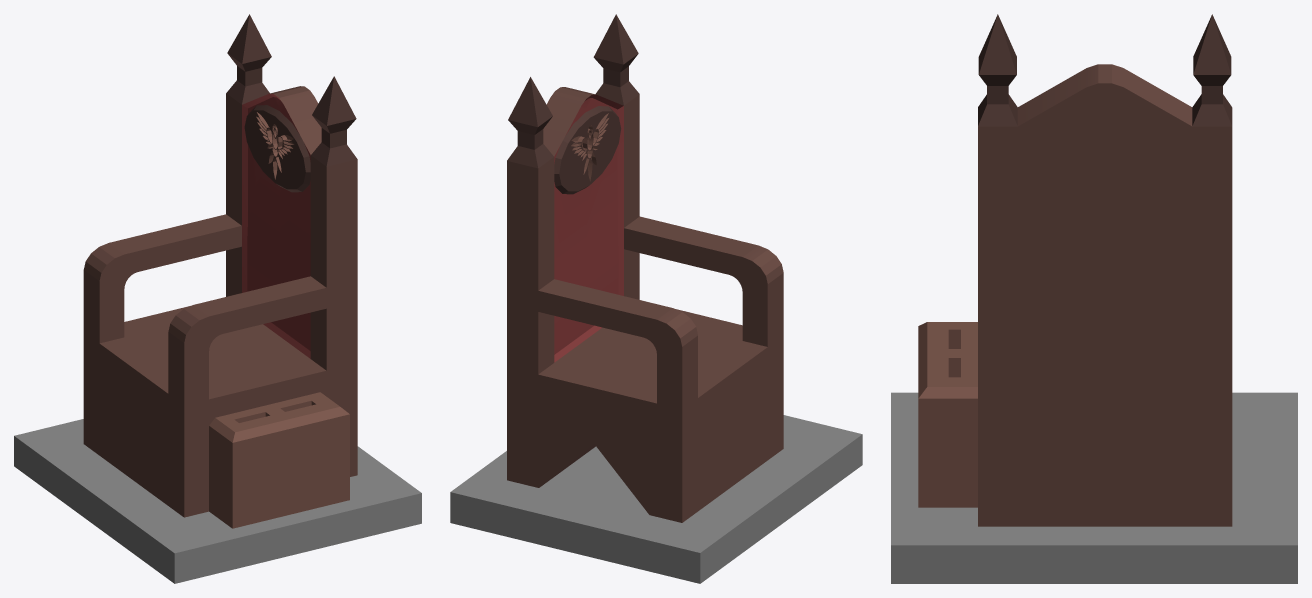
Rendered from Throne.fbx.
3 views of the same model, side by side, from view 1: azimuth 30°, elevation 25°; view 2: azimuth 150°, elevation 25°; view 3: azimuth 270°, elevation 25° (orthographic). The views are drawn at different scales.
Visible parts, largest first — view 1: Cube.004; view 2: Cube.004; view 3: Cube.004.
Part boxes in pixels (bbox=[...]): Cube.004: bbox=[14, 14, 421, 583]; Cube.004: bbox=[450, 14, 862, 583]; Cube.004: bbox=[891, 14, 1297, 583].
Size of the model in its own units: 1.65 by 2.73 by 1.86.
